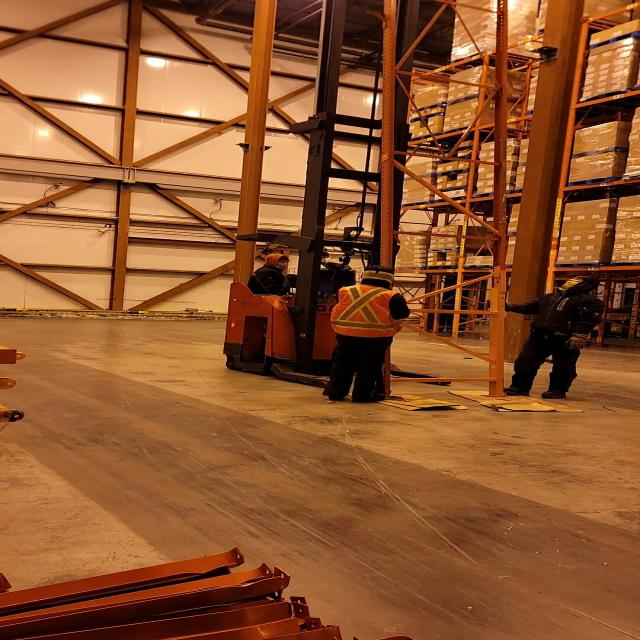forklift: (213, 116, 457, 403)
human: (502, 273, 608, 401), (318, 266, 416, 404), (242, 248, 306, 296)
objectofinterest: (374, 1, 516, 402), (447, 388, 595, 415), (353, 392, 468, 413)
